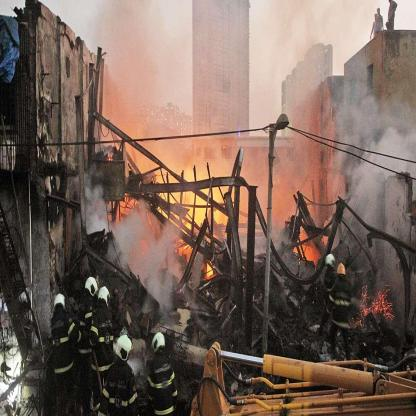fire: (298, 244, 316, 262), (214, 207, 228, 226), (212, 187, 223, 205), (168, 191, 182, 205), (195, 209, 205, 228), (211, 165, 230, 175), (183, 190, 196, 204), (181, 238, 191, 256), (206, 259, 214, 278), (166, 172, 178, 184), (197, 170, 210, 180), (184, 170, 194, 182), (185, 206, 193, 220), (196, 195, 206, 205), (159, 191, 168, 202)
